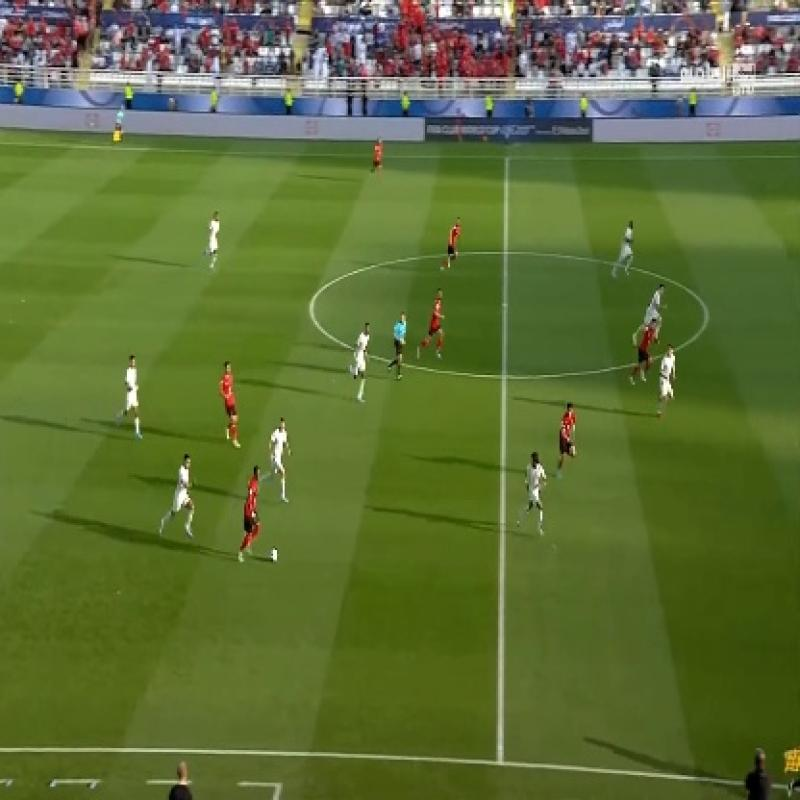13: (498, 144, 516, 168)
14: (492, 236, 519, 266)
15: (490, 358, 518, 392)
16: (482, 734, 519, 781)
c: (296, 290, 327, 324), (692, 303, 721, 328)
